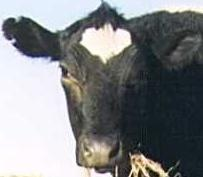muzzles: (72, 134, 127, 171)
